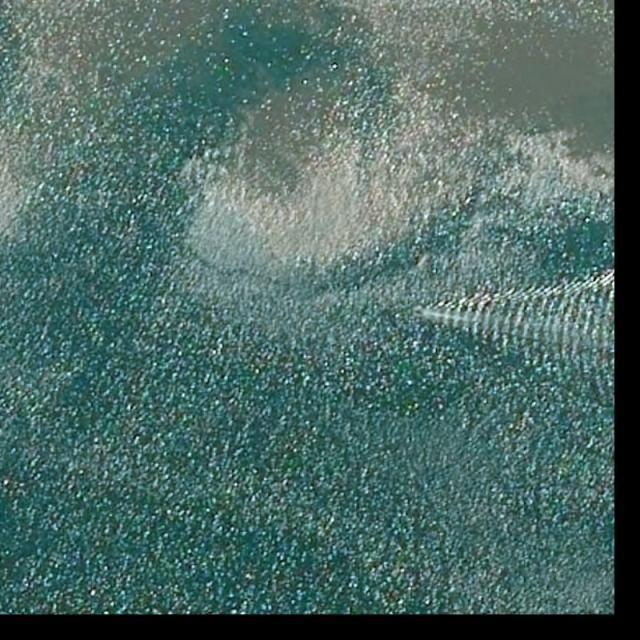ship: (413, 309, 426, 314)
